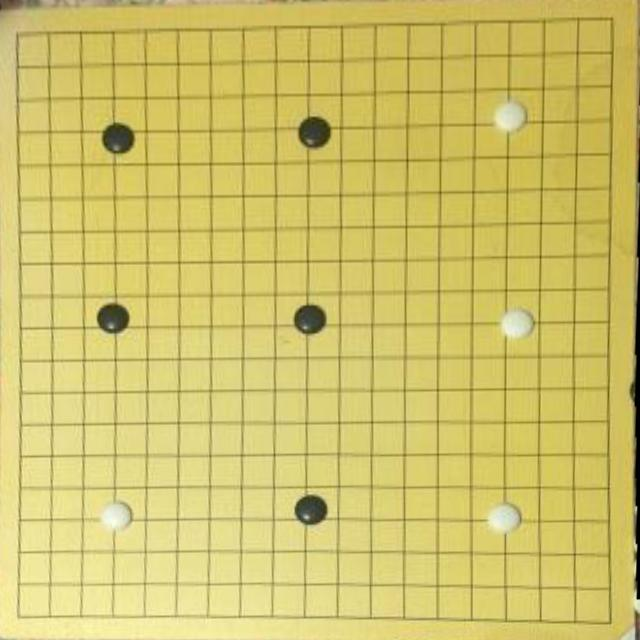blackstone: (95, 302, 132, 336), (294, 302, 328, 336), (294, 493, 328, 527), (297, 115, 332, 148), (102, 122, 136, 155)
whitestone: (486, 502, 523, 535), (500, 307, 535, 341), (493, 99, 527, 134), (99, 500, 133, 533)
